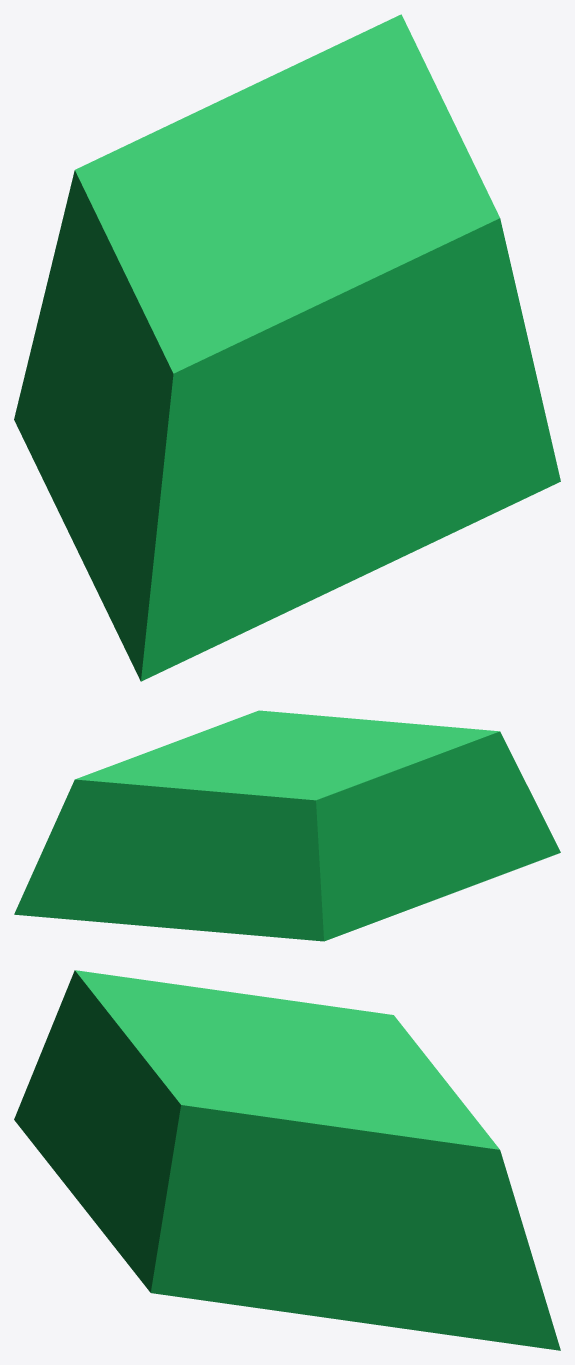
File: EmeraldBar.fbx
The picture shows the model from 3 angles, top to bottom: view 1: azimuth 30°, elevation 25°; view 2: azimuth 150°, elevation 25°; view 3: azimuth 270°, elevation 25°; orthographic projection. The views are drawn at different scales.
Parts seen in each view (by area): view 1: EmeraldBar; view 2: EmeraldBar; view 3: EmeraldBar.
Part boxes in pixels (<box>): EmeraldBar: <box>14,14,560,681</box>; EmeraldBar: <box>14,710,560,941</box>; EmeraldBar: <box>14,970,560,1350</box>.
Size of the model in its own units: 1.27 by 0.45 by 1.27.
Materials: 1 (1 with a texture image).
